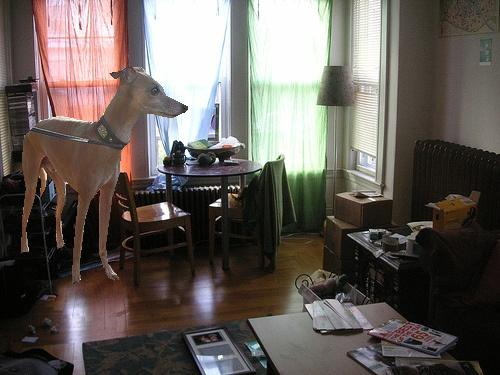tampered: (22, 68, 188, 284)
